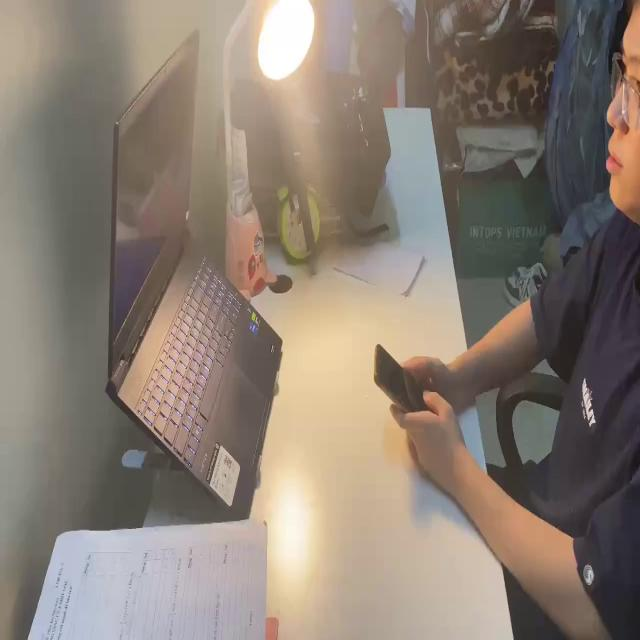book: (26, 519, 270, 640), (329, 229, 427, 302)
laptop: (101, 25, 287, 522)
phone: (372, 336, 430, 410)
student: (391, 0, 640, 640)
